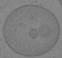small: (40, 22, 50, 39), (29, 28, 37, 38)
